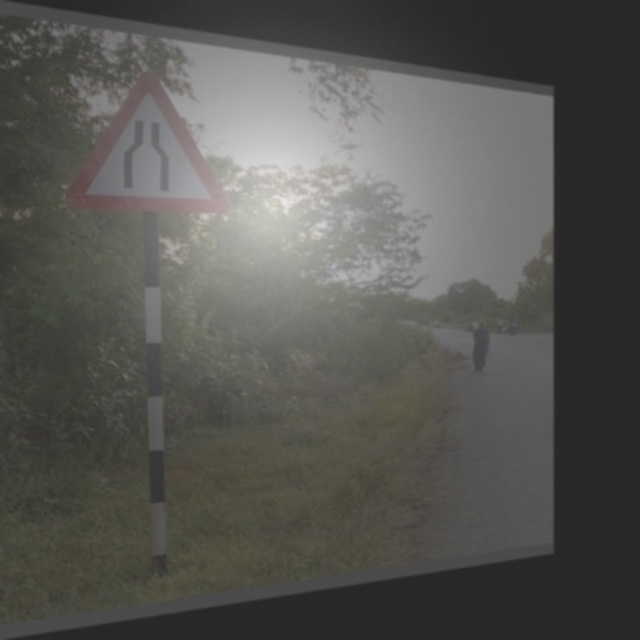Narrow_Road_Ahead: (65, 56, 234, 216)
